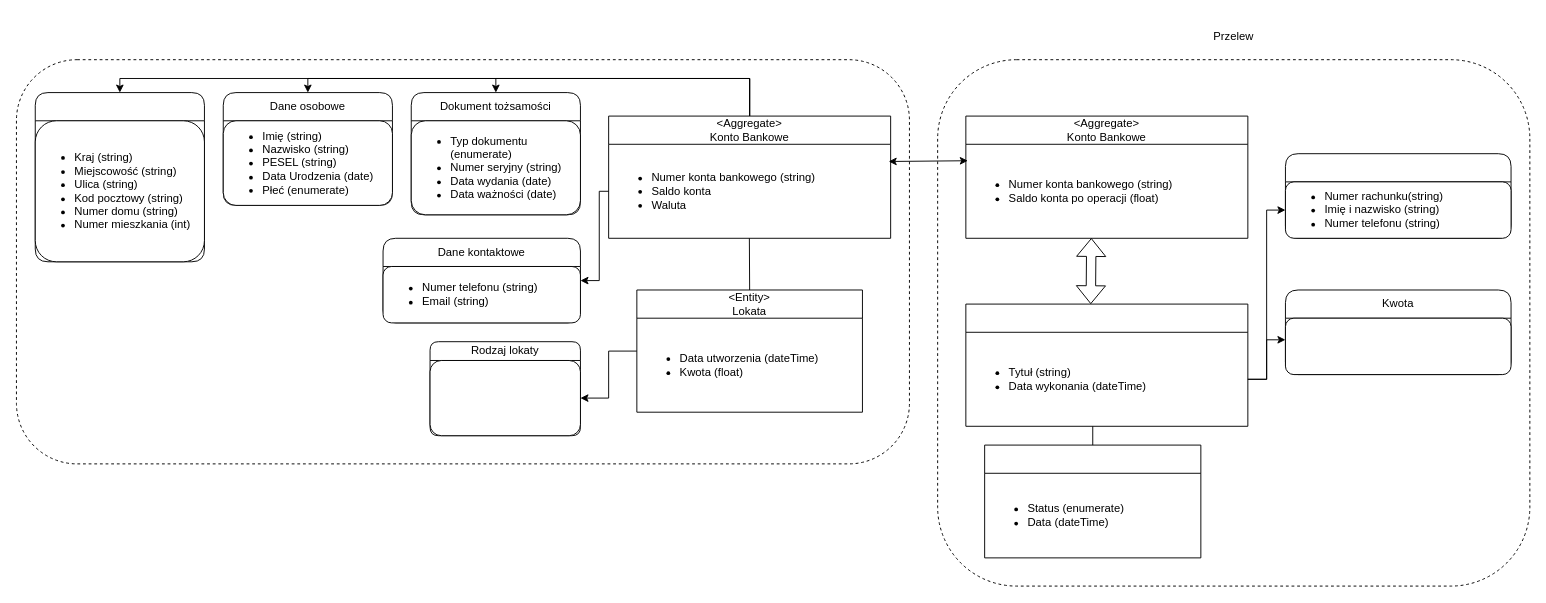
Some shapes in this 1546 by 603 pixel diagram are drawn without their labels. Here are the shapes that lost their labels. From the top down, the box of each, then its label:
(34, 92, 204, 262): Adres
(1285, 153, 1511, 238): Dane odbiorcy
(16, 59, 909, 464): Zarządzanie kontem
(965, 303, 1248, 426): <Aggregate> Operacja
(1285, 317, 1511, 375): Ilość (float) Waluta (enumerate) Data waluty(dateTime)
(429, 360, 580, 436): Nazwa (string) Oprocentowanie (float) Okres trwania (int)
(984, 444, 1201, 558): <Entity> Stan operacji
